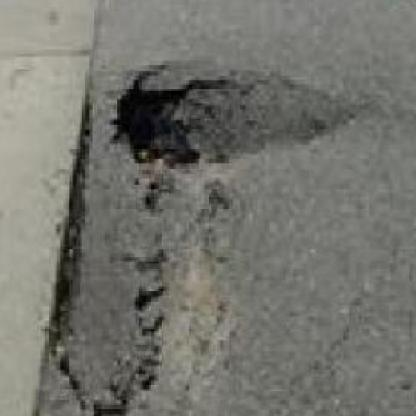pothole: (41, 68, 171, 416), (108, 68, 355, 170)
